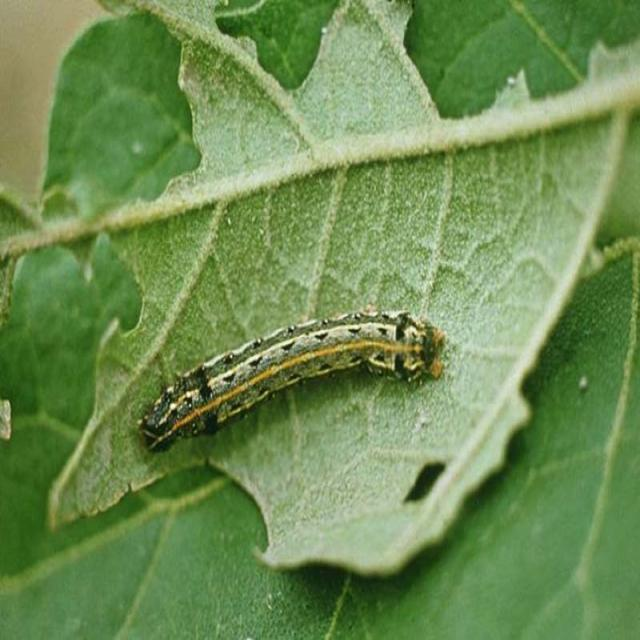Cutworm: (139, 308, 448, 465)
